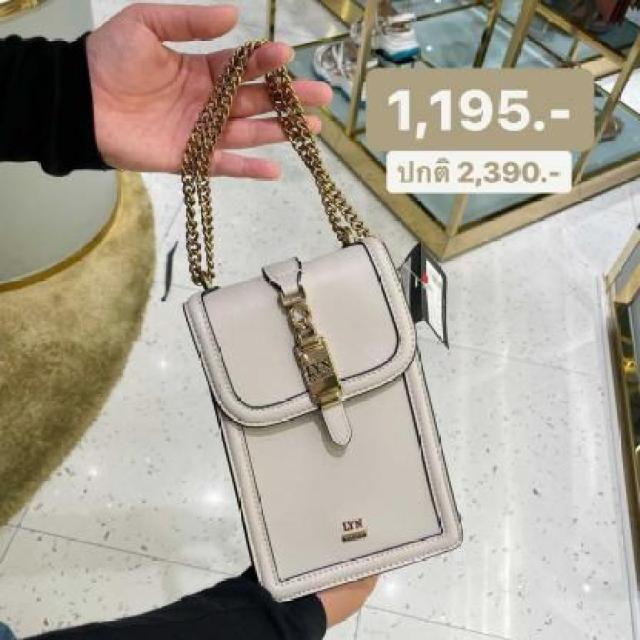Bag: (122, 19, 506, 628)
